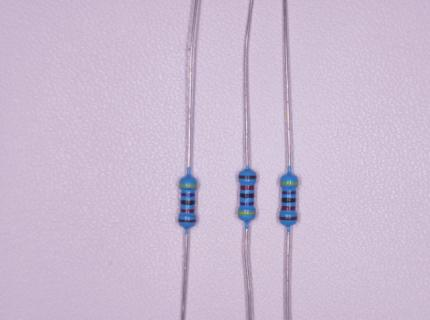Black band: (282, 198, 296, 203), (240, 193, 254, 198), (181, 200, 195, 205)
Brown band: (238, 175, 256, 179), (279, 216, 297, 220), (178, 219, 196, 222)
Red band: (281, 206, 296, 211), (180, 208, 195, 213), (240, 185, 254, 190)
Violet band: (181, 192, 195, 197), (282, 191, 296, 195), (240, 202, 254, 205)
Yellow band: (179, 183, 198, 187), (280, 181, 298, 185), (238, 211, 256, 215)
